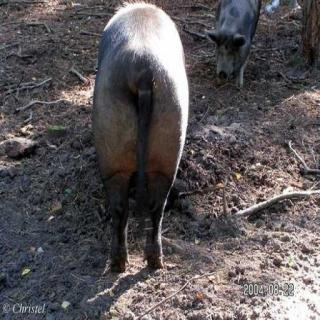Pig: (68, 2, 224, 254)
